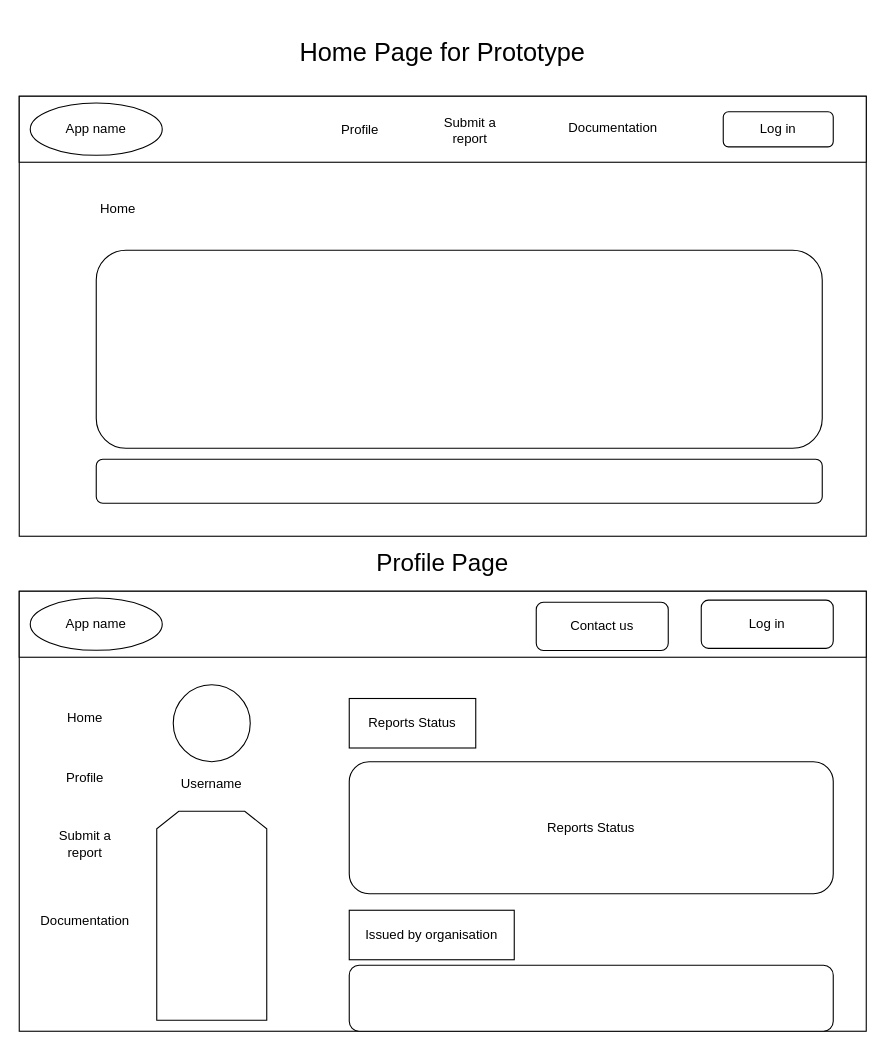
This 886x1051 diagram has some shape labels left out. The centre of each missing label's shape, as x and y in pixels:
"An AI Powered Bug Detector and Report Creator" goes at (458,348).
"I can Help!!" goes at (458,480).
"organisation detail and bug problem ( for later)" goes at (590,997).
"user Bio" goes at (211,915).
